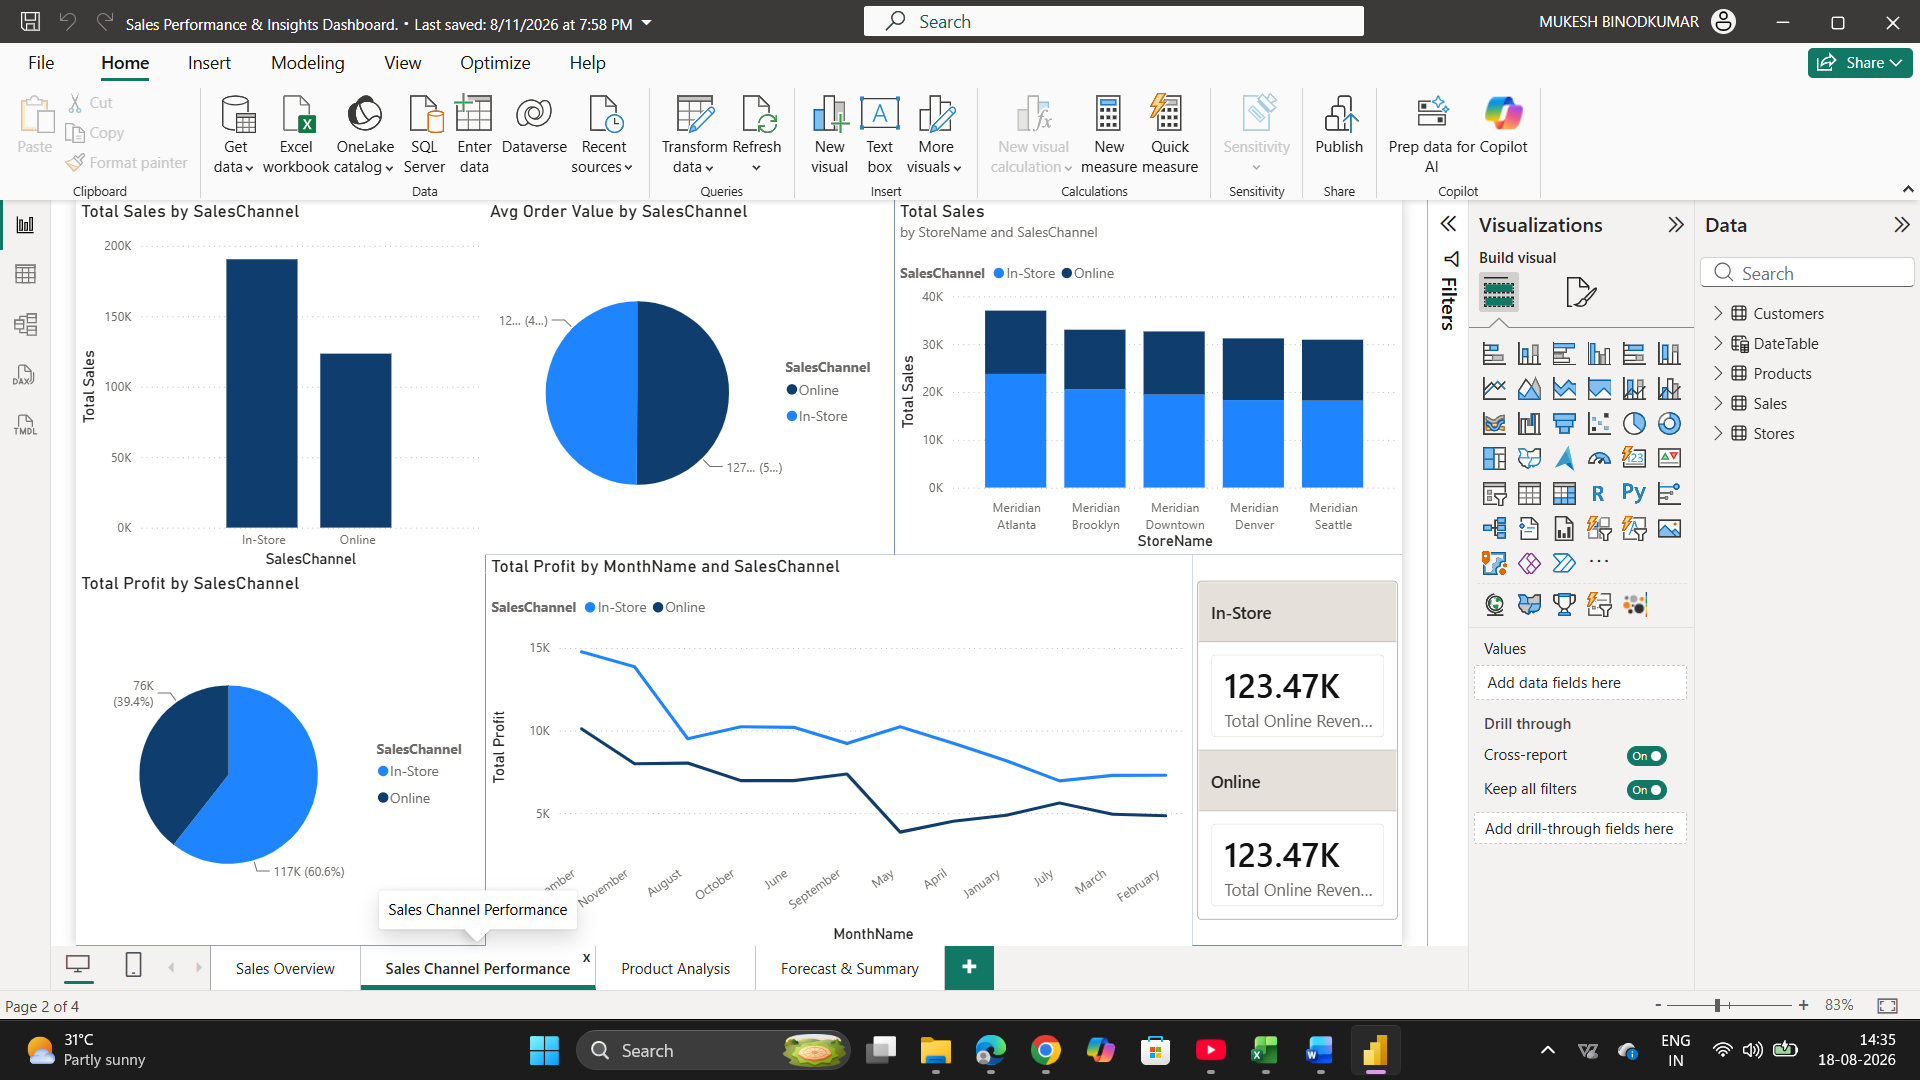

What the dashboard file says about the page in this screenshot:
{"tool":"powerbi","page":{"name":"Sales Channel Performance","canvas":[1280,720],"ordinal":1},"visuals":[{"type":"columnChart","fields":{"Category":["Sales.SalesChannel"],"Y":["Sales.Total Sales"]},"box":[0,0,395,360],"z":0},{"type":"pieChart","fields":{"Category":["Sales.SalesChannel"],"Y":["Sales.Total Profit"]},"box":[0,360,395,360],"z":1000},{"type":"pieChart","fields":{"Category":["Sales.SalesChannel"],"Y":["Sales.Avg Order Value"]},"box":[395,0,395,342.5],"z":2000},{"type":"columnChart","fields":{"Category":["Stores.StoreName"],"Series":["Sales.SalesChannel"],"Y":["Sales.Total Sales"]},"box":[790,0,490,342.5],"z":3000},{"type":"lineChart","fields":{"Category":["DateTable.MonthName"],"Series":["Sales.SalesChannel"],"Y":["Sales.Total Profit"]},"box":[395.1,342.3,681.7,378.4],"z":3001},{"type":"cardVisual","fields":{"Data":["Sales.Total Online Revenue"],"Rows":["Sales.SalesChannel"]},"box":[1076.9,342.3,203.1,377],"z":3002}]}

Visuals, with their boxes on the page's 1280x720 design canvas (x1, y1, x2, y2). These are canvas units, not pixel positions in the 1920x1080 screenshot, which may show the page scaled, cropped or inside an application window:
columnChart - Sales.SalesChannel x Sales.Total Sales: Rect(0, 0, 395, 360)
pieChart - Sales.SalesChannel x Sales.Total Profit: Rect(0, 360, 395, 720)
pieChart - Sales.SalesChannel x Sales.Avg Order Value: Rect(395, 0, 790, 342)
columnChart - Stores.StoreName x Sales.SalesChannel: Rect(790, 0, 1280, 342)
lineChart - DateTable.MonthName x Sales.SalesChannel: Rect(395, 342, 1077, 721)
cardVisual - Sales.Total Online Revenue x Sales.SalesChannel: Rect(1077, 342, 1280, 719)
